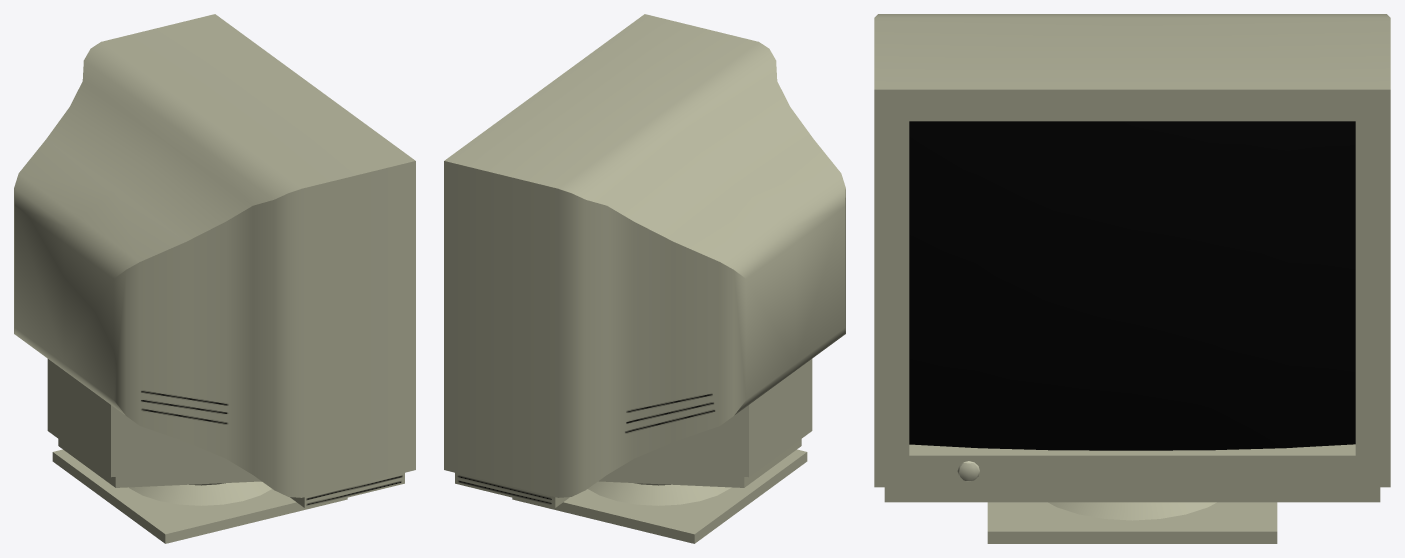
Rendered from MONITOR.fbx.
3 views of the same model, side by side, from view 1: azimuth 30°, elevation 25°; view 2: azimuth 150°, elevation 25°; view 3: azimuth 270°, elevation 25° (orthographic). The views are drawn at different scales.
Parts seen in each view (by area): view 1: Cube; view 2: Cube; view 3: Cube.
Boxes of the visible parts, box(x1,y1,x2,y2) form: Cube: box(14, 14, 415, 543); Cube: box(444, 14, 845, 543); Cube: box(874, 14, 1390, 543).
Size of the model in its own units: 163 by 219 by 218.
